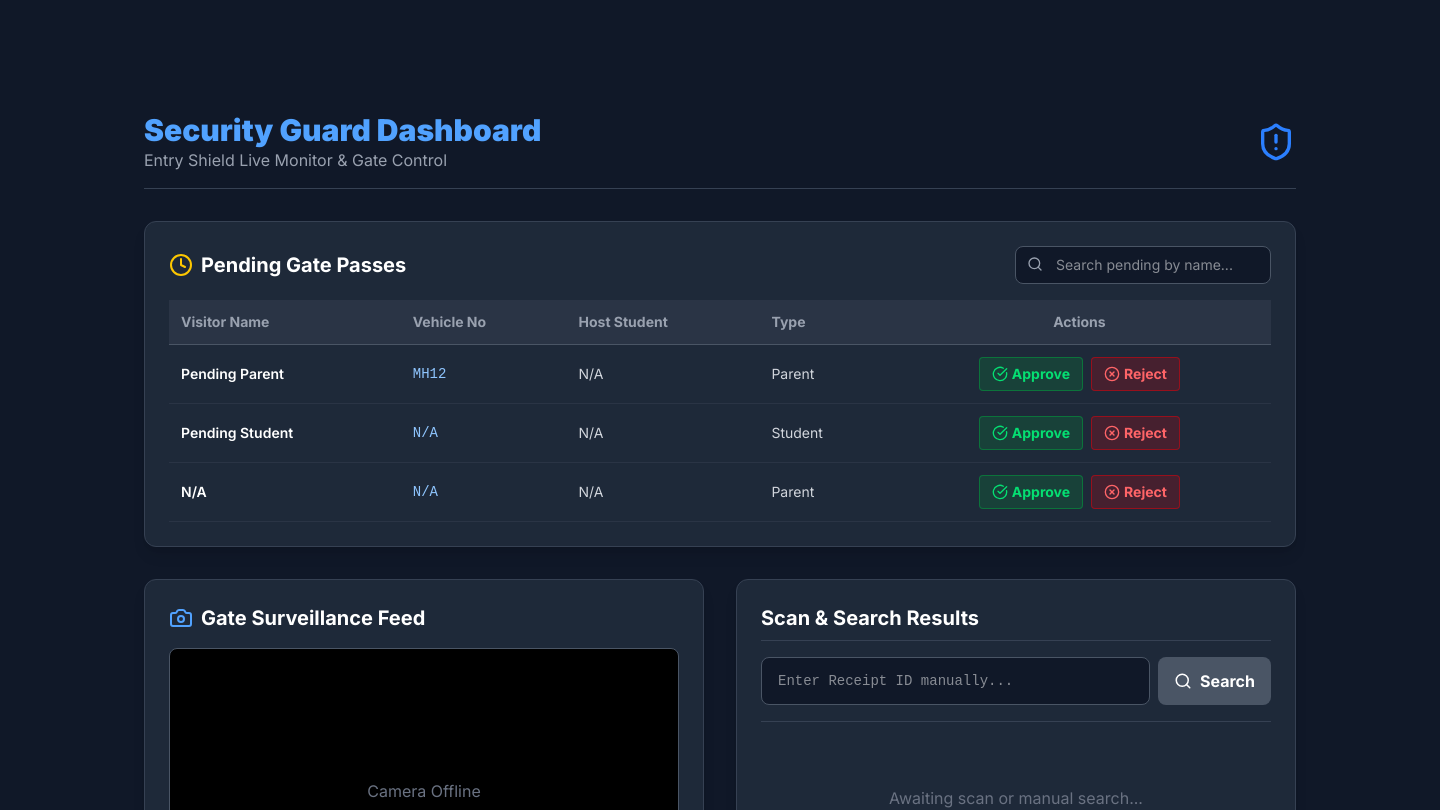
Scenario: GuardDashboard Integration › handles API network errors for table updates
Expected: the text "Pending Parent" is shown, [169,344,401,404]
Step 1. Click the button "Approve" in the row of "Pending Parent" → click(1031, 374), box [979,357,1083,391]
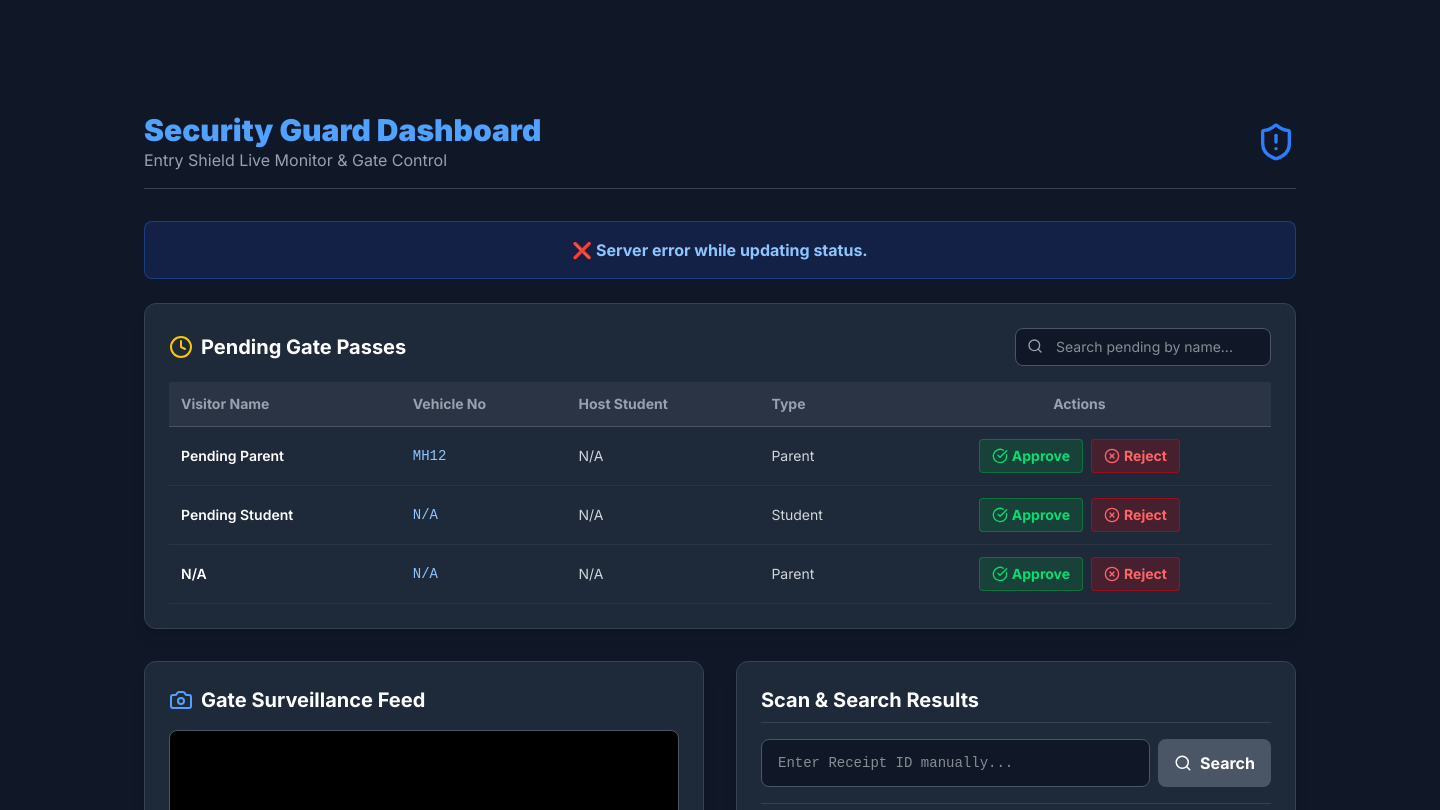
Expected: the text "❌ Server error while updating status." is shown, [144,221,1296,279]
